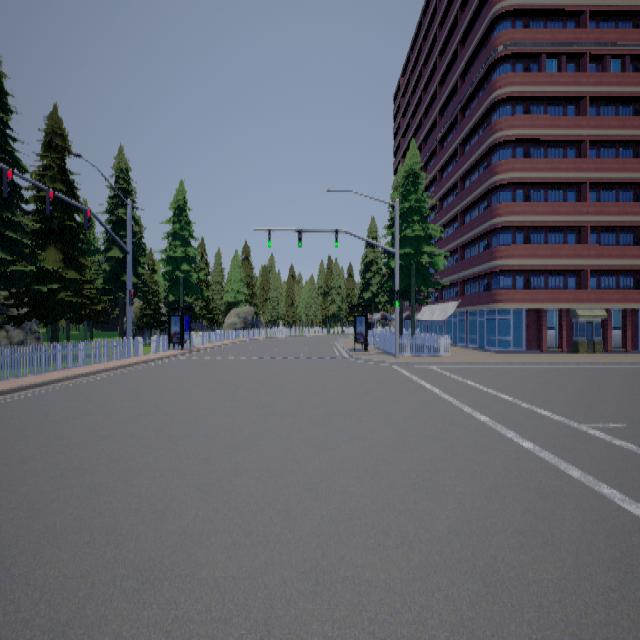green_light: (298, 228, 302, 247), (334, 228, 338, 246), (394, 290, 398, 306), (268, 228, 270, 247)
red_light: (2, 167, 13, 197), (45, 187, 54, 214), (83, 207, 91, 229), (128, 288, 134, 305)
